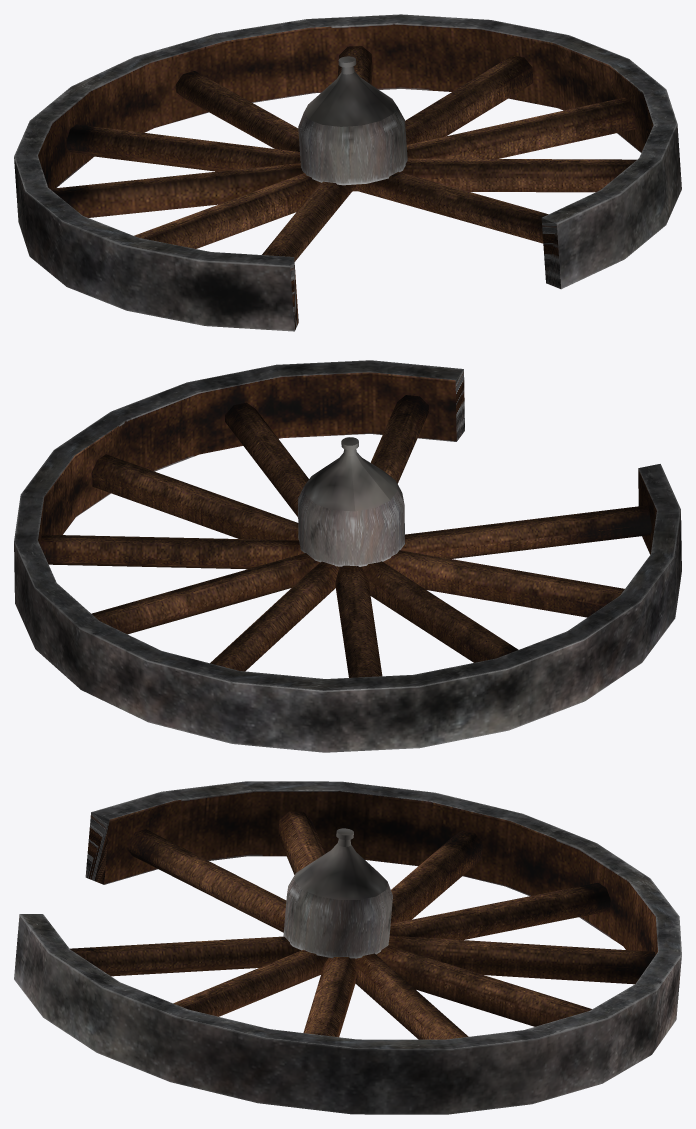
The model's file is Rueda3.fbx.
3 renders of one model, top to bottom at view 1: azimuth 30°, elevation 25°; view 2: azimuth 150°, elevation 25°; view 3: azimuth 270°, elevation 25°, orthographic.
Visible parts, largest first — view 1: Wheel; view 2: Wheel; view 3: Wheel.
Boxes of the visible parts, x1=… form: Wheel: x1=14, y1=14, x2=681, y2=331; Wheel: x1=14, y1=360, x2=681, y2=752; Wheel: x1=14, y1=781, x2=681, y2=1114.
Size of the model in its own units: 182 by 51.76 by 181.
